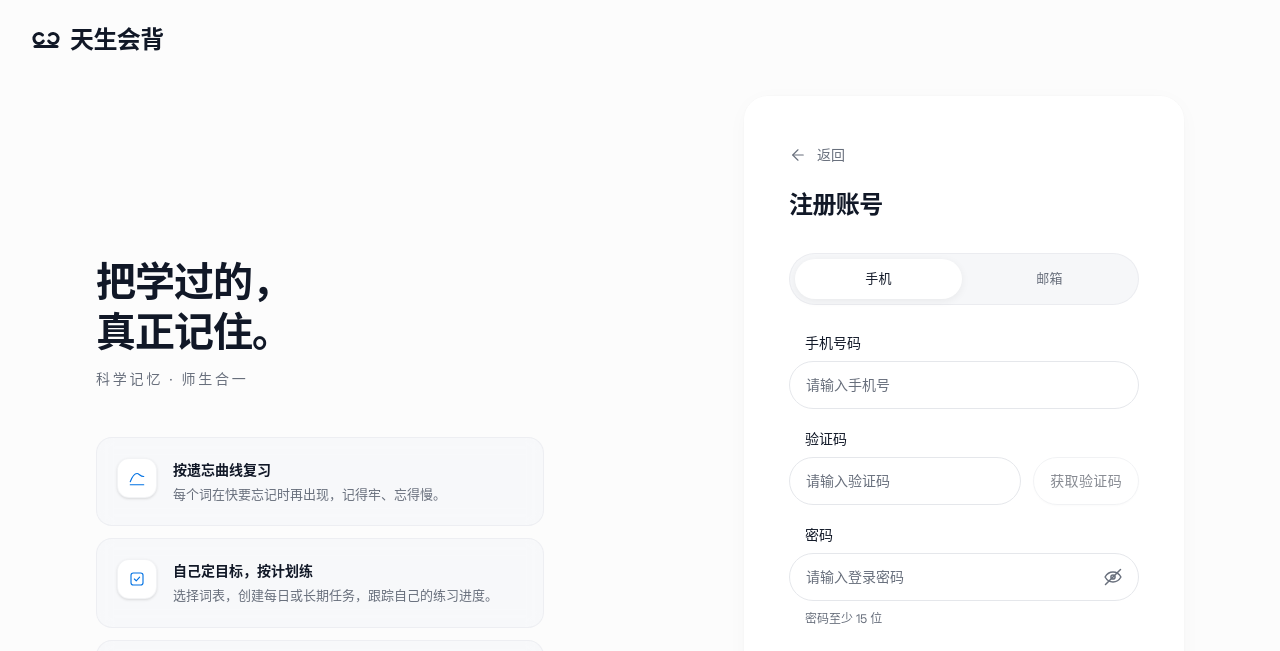
Test: RegisterForm — 手机号验证码注册 › 发码后修改手机号会清空旧验证码和倒计时
Type "13800138000" into the field with placeholder "请输入手机号" at [964, 385], box [789,361,1139,409]
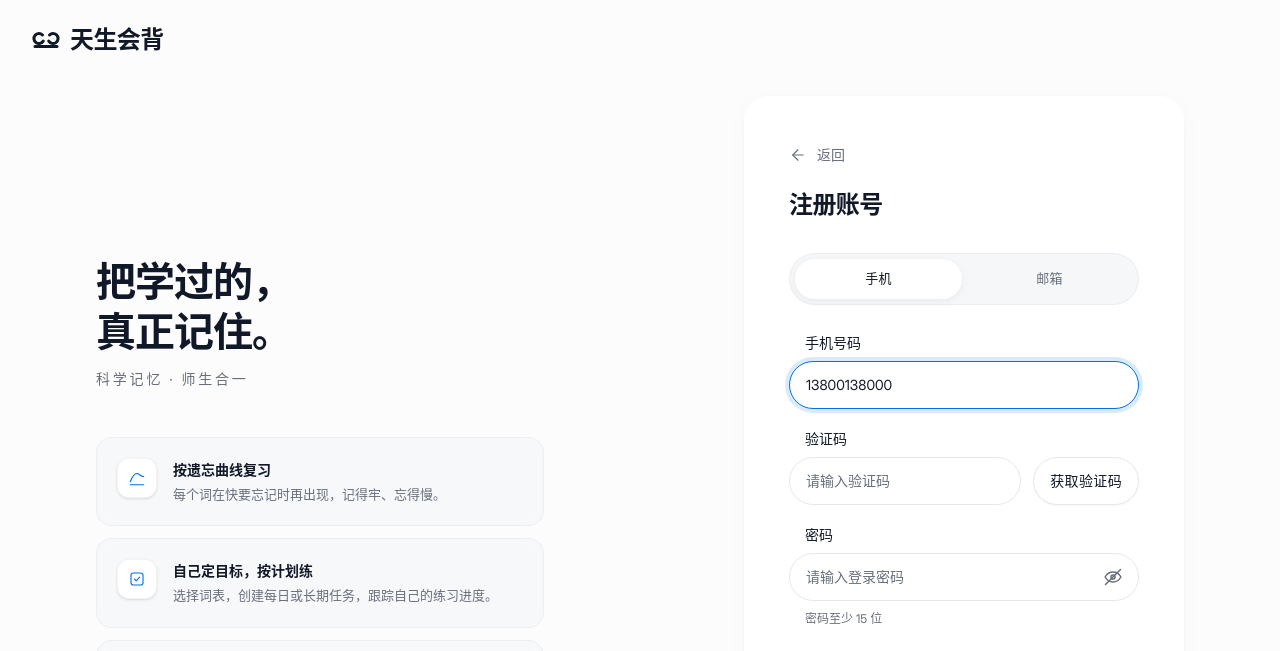
Click the button "获取验证码" at [1086, 481], box [1033,457,1139,505]
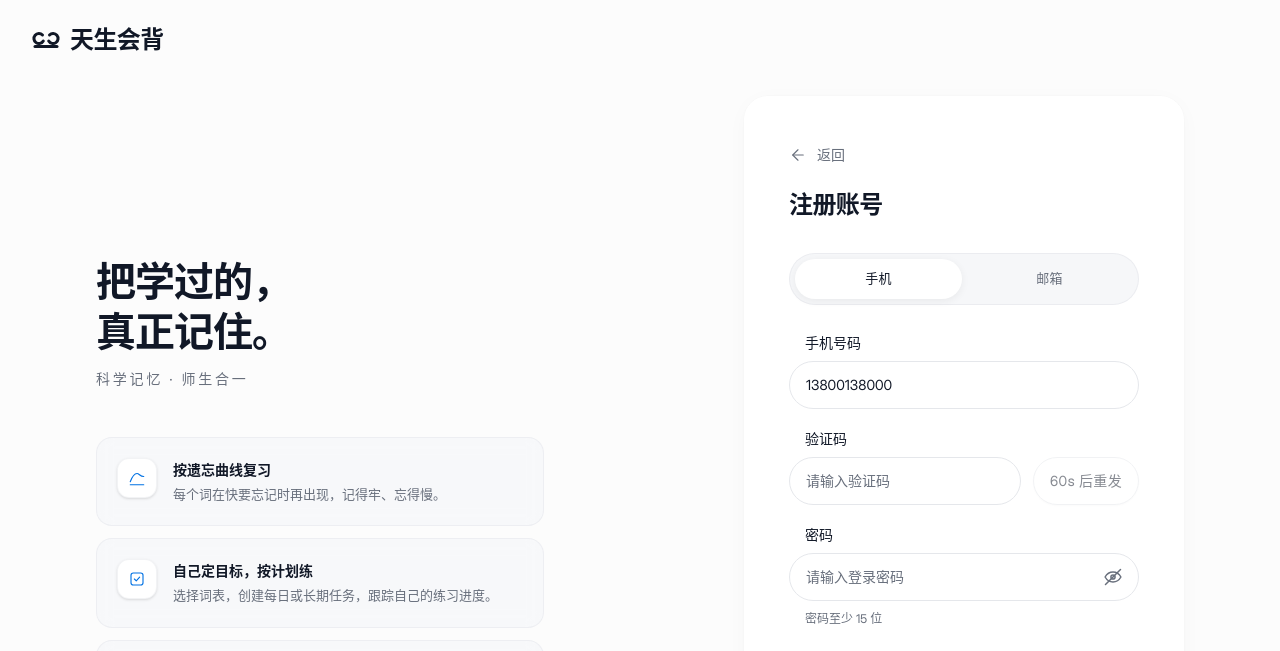
Check: the button "60s 后重发" is shown, box [1033,457,1139,505]
Type "123456" into the field with placeholder "请输入验证码" at [905, 481], box [789,457,1021,505]
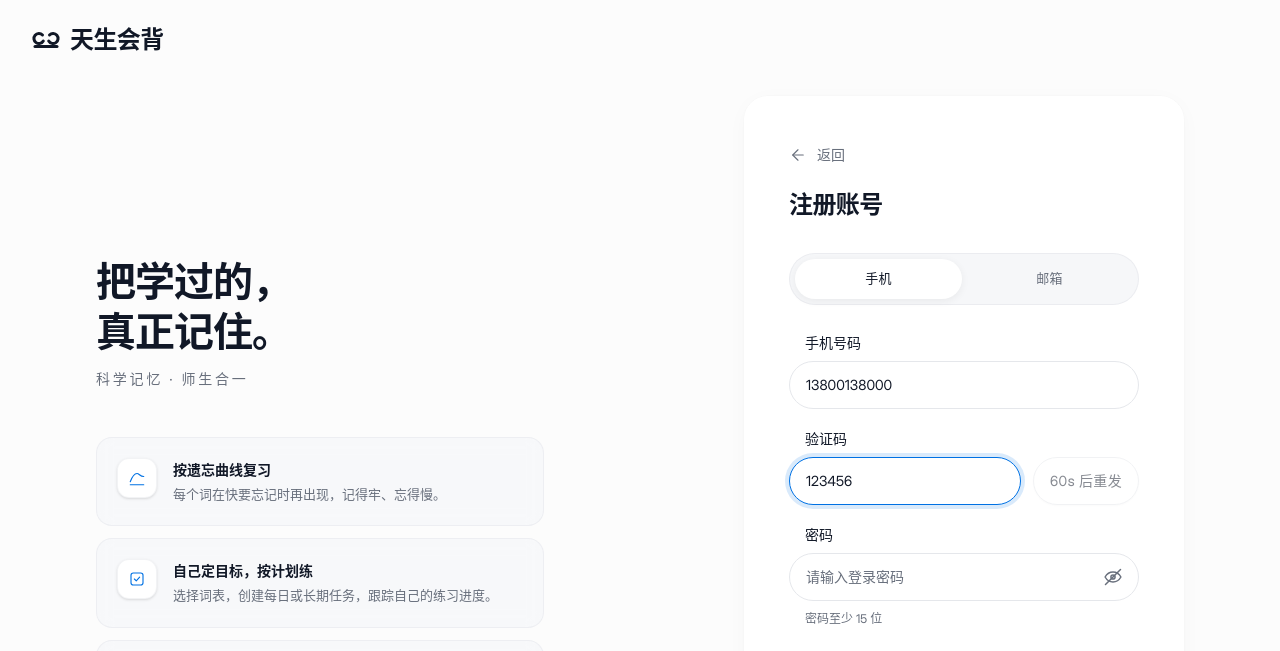
Replace the text in the field with placeholder "请输入手机号" with "13900139000" at [964, 385], box [789,361,1139,409]
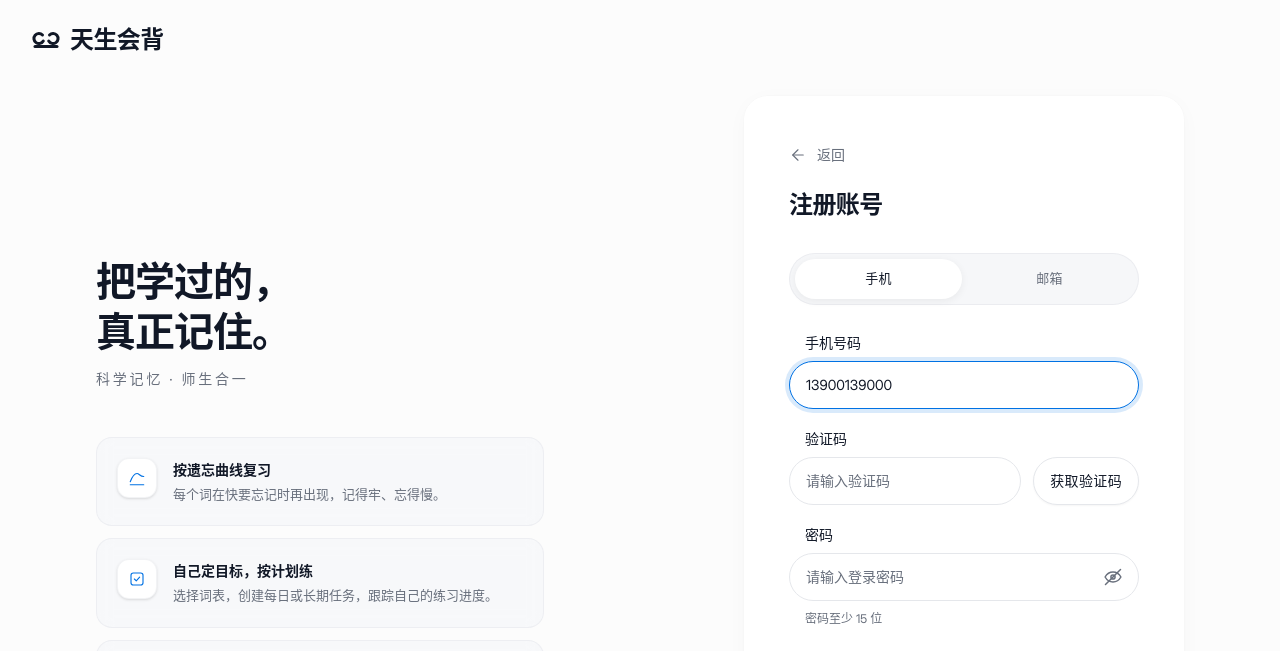
Check: the field with placeholder "请输入验证码" is empty, box [789,457,1021,505]
Check: the button "获取验证码" is enabled, box [1033,457,1139,505]
